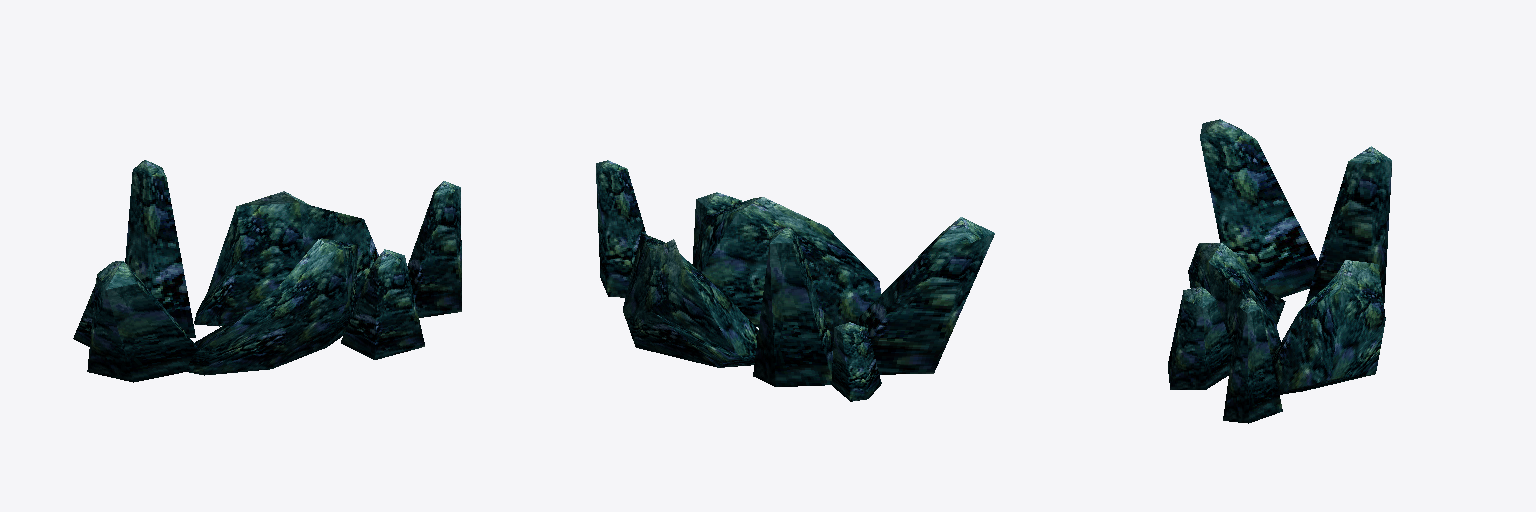
The picture shows the model from 3 angles: view 1: azimuth 30°, elevation 25°; view 2: azimuth 150°, elevation 25°; view 3: azimuth 270°, elevation 25°; orthographic projection.
Parts seen in each view (by area): view 1: NorthrendFissure1(m0); view 2: NorthrendFissure1(m0); view 3: NorthrendFissure1(m0).
Boxes of the visible parts, x1=… form: NorthrendFissure1(m0): x1=73, y1=160, x2=461, y2=382; NorthrendFissure1(m0): x1=596, y1=160, x2=994, y2=401; NorthrendFissure1(m0): x1=1168, y1=119, x2=1391, y2=423.
Bounding box in the file's own units: 10.09 × 4.01 × 5.2.
1 materials, 1 textured.